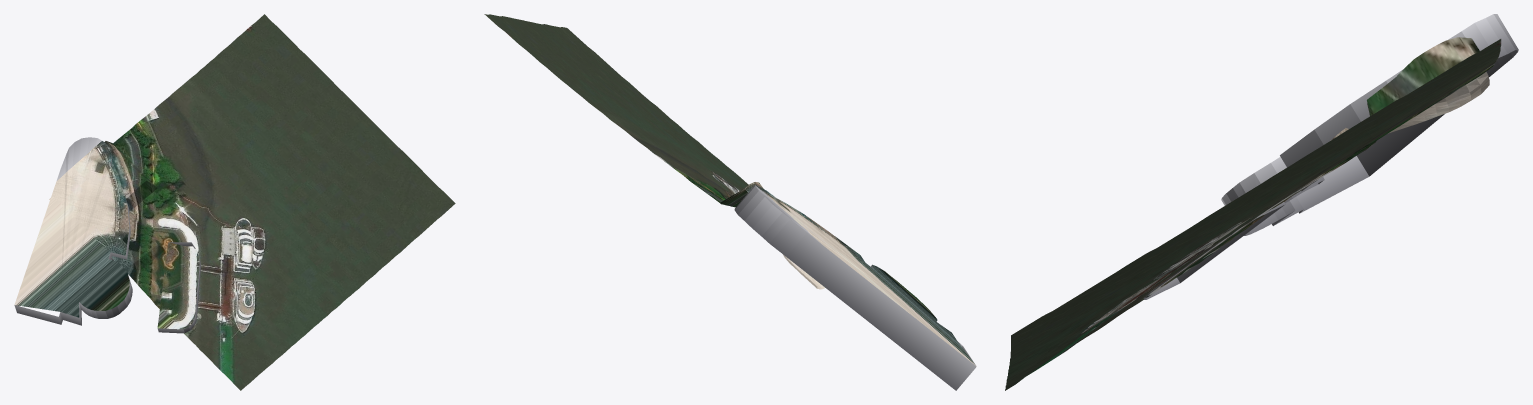
3 renders of one model, left to right at view 1: azimuth 30°, elevation 25°; view 2: azimuth 150°, elevation 25°; view 3: azimuth 270°, elevation 25°, orthographic. The views are drawn at different scales.
Bounding box in the file's own units: 372 × 248 × 233.
1 material, 1 textured.
